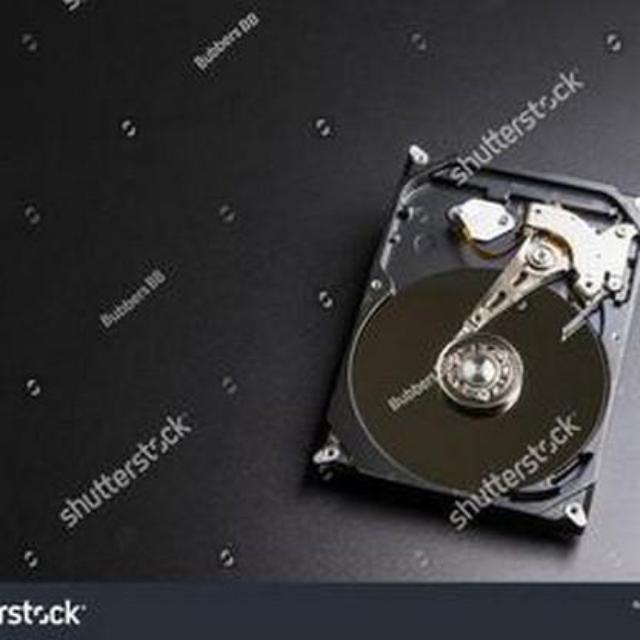DISK: (313, 134, 636, 554)
